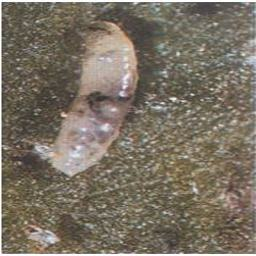liriomyza: (37, 19, 140, 177)
